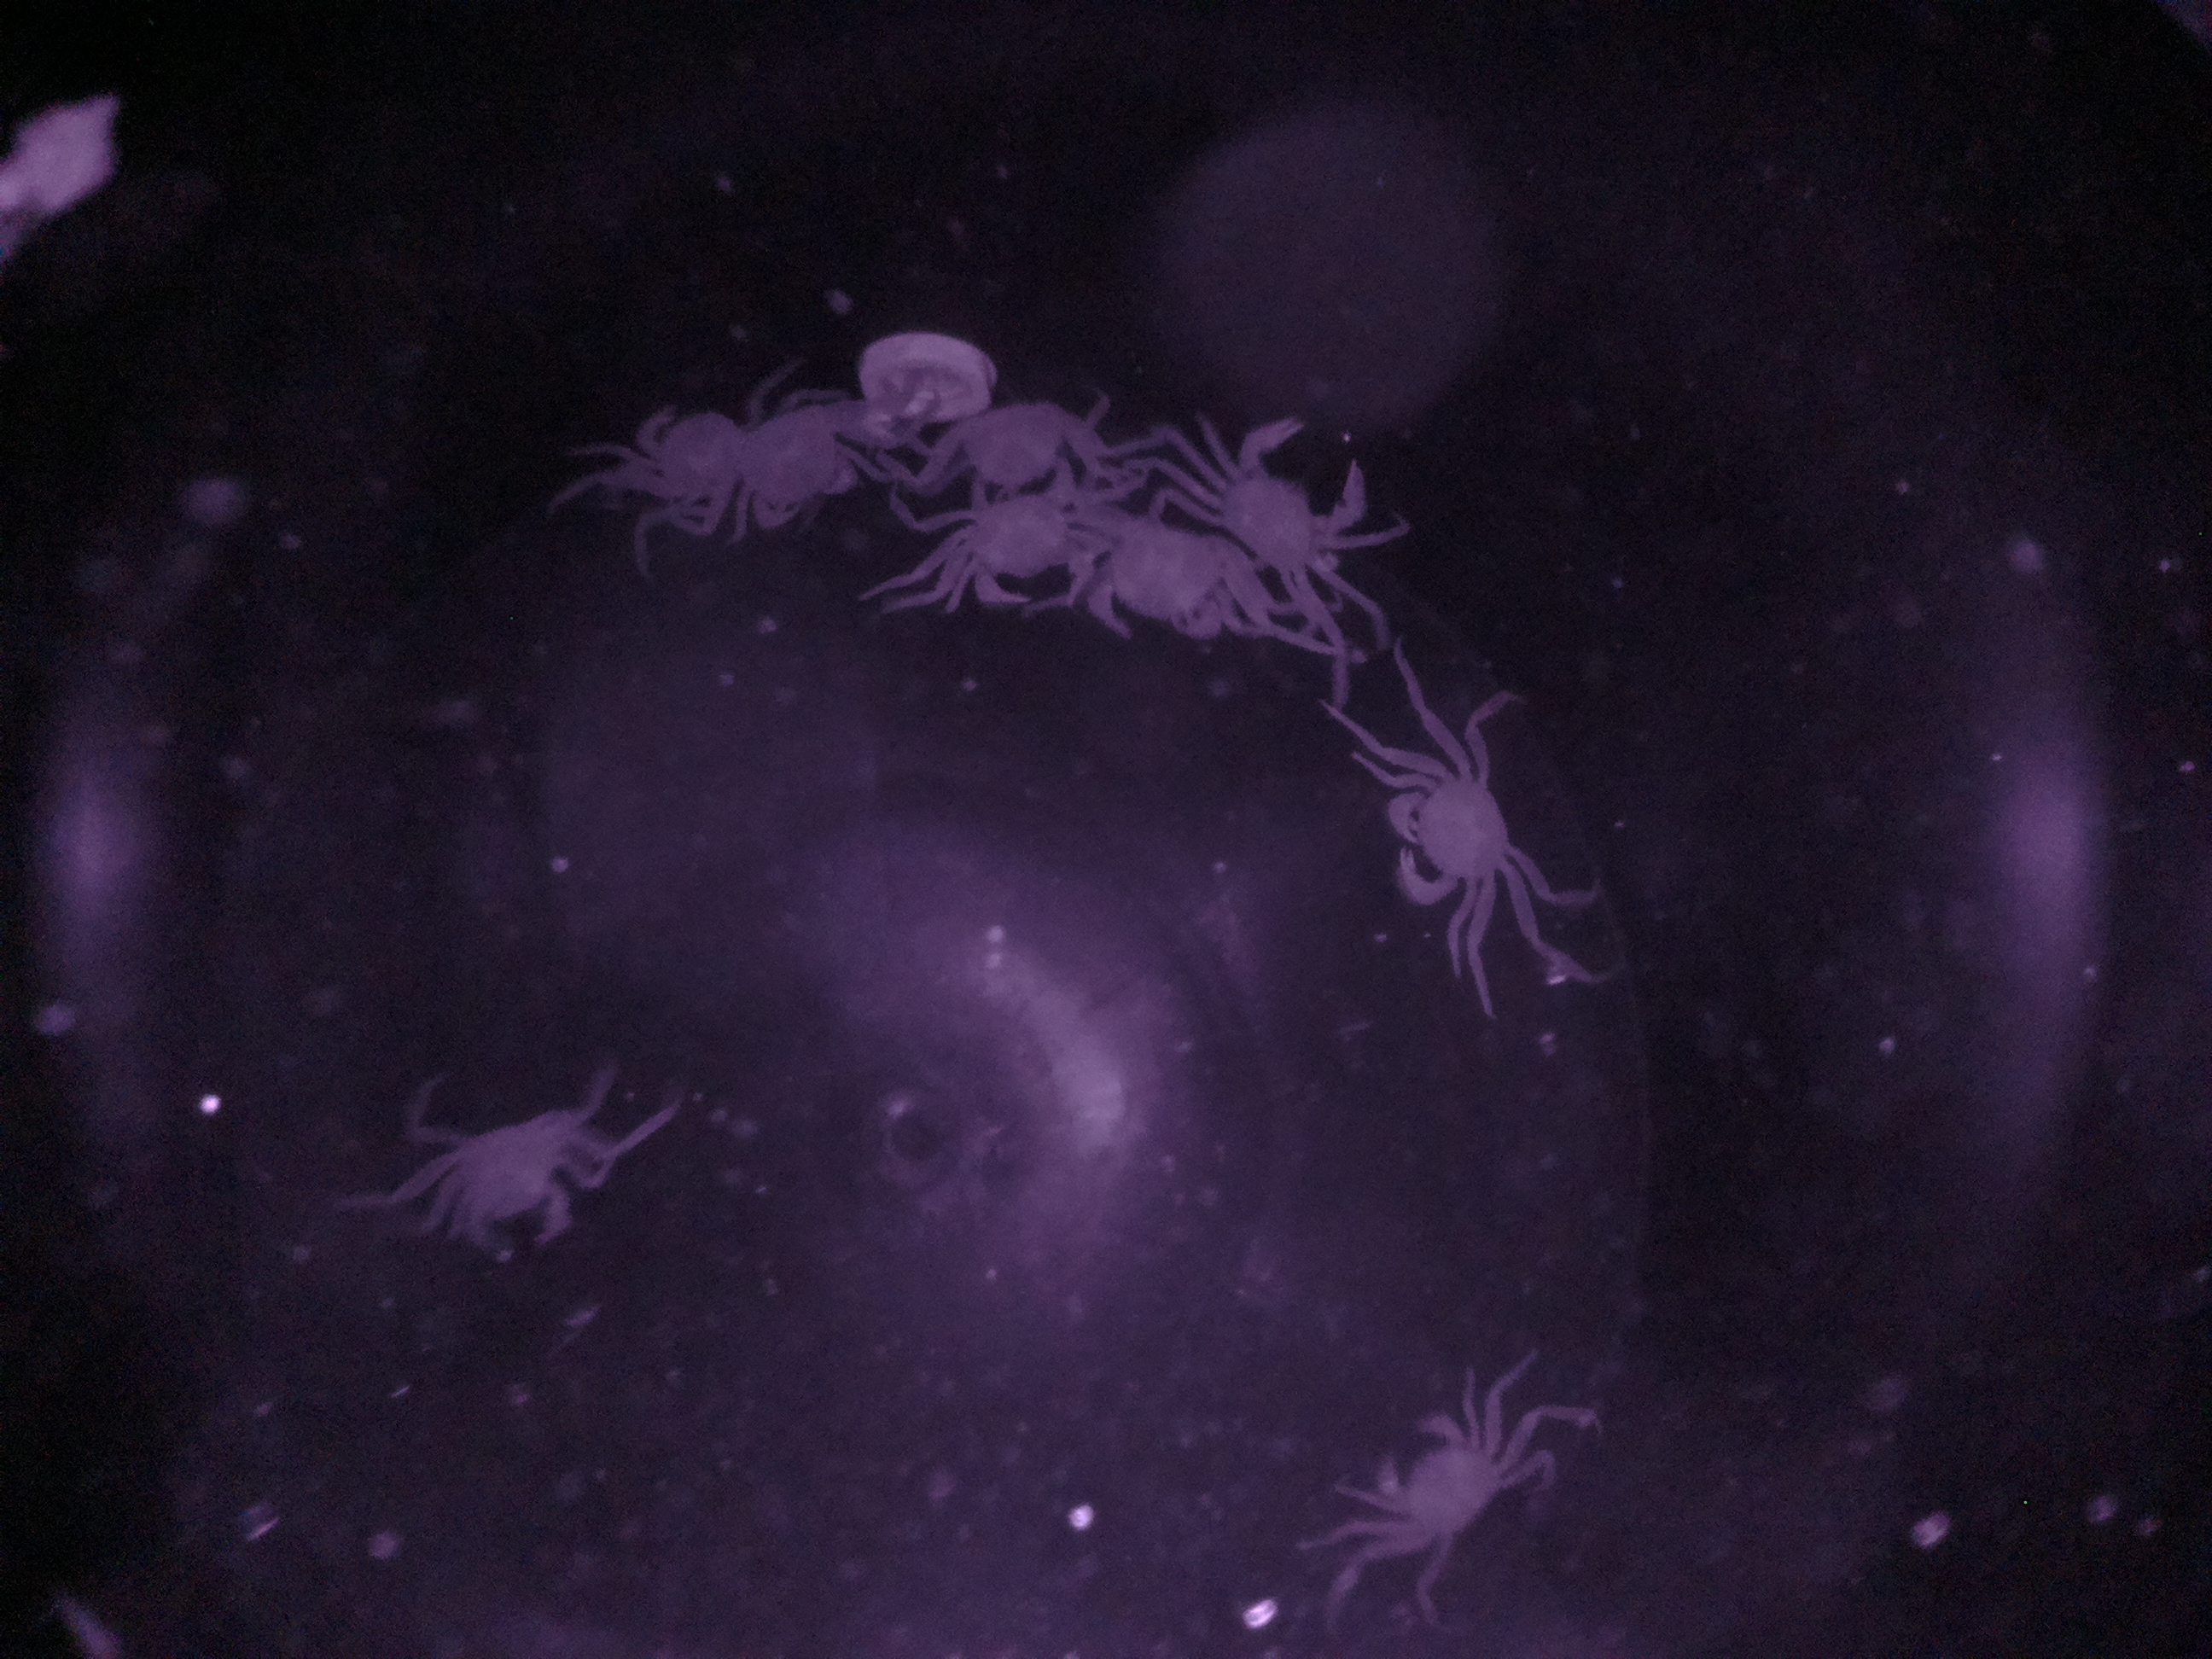Crab: (1362, 716, 1550, 945), (1198, 382, 1390, 598), (1355, 1384, 1515, 1584)
